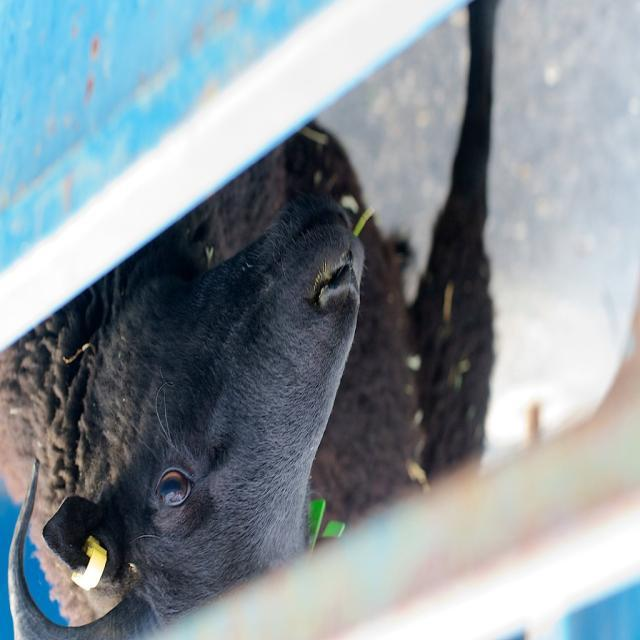Goat: (1, 3, 501, 640)
